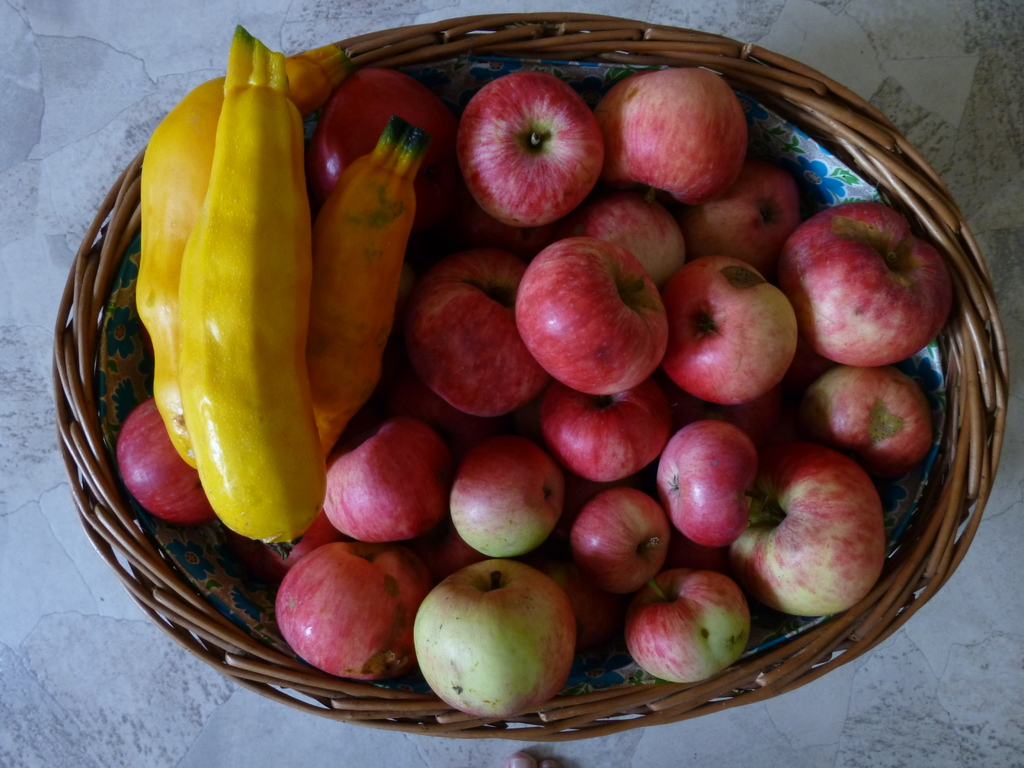Apple: (109, 59, 956, 684), (410, 565, 586, 724)
